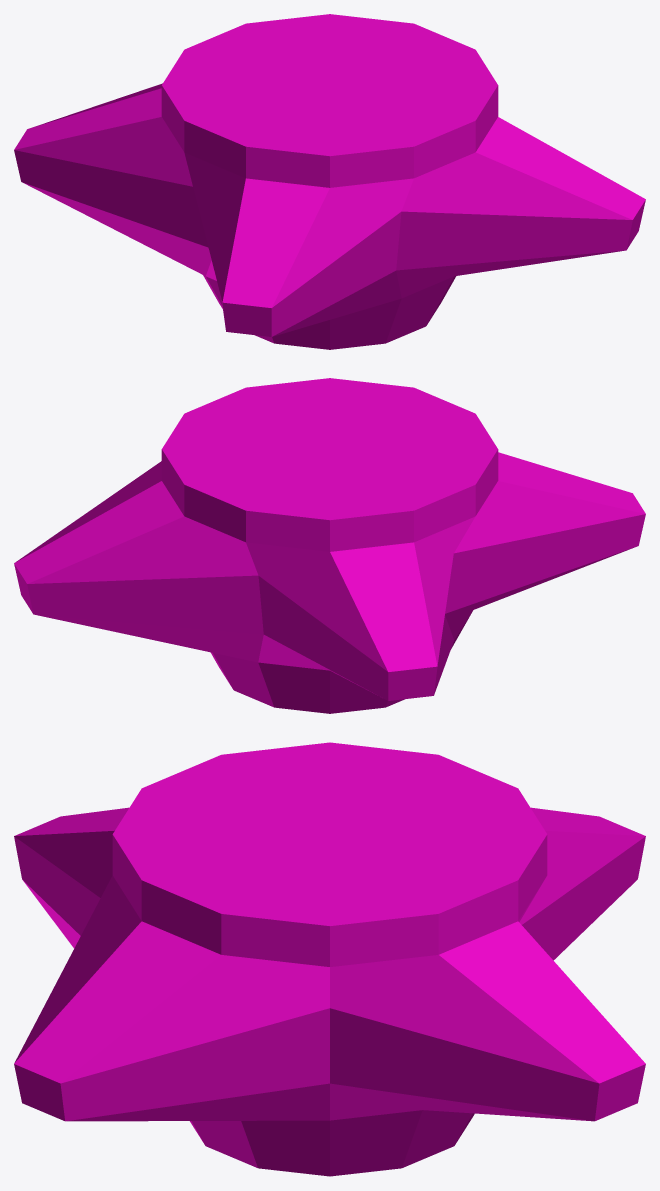
Rendered from 6Ratchet.fbx.
The picture shows the model from 3 angles, top to bottom: view 1: azimuth 30°, elevation 25°; view 2: azimuth 150°, elevation 25°; view 3: azimuth 270°, elevation 25°; orthographic projection. The views are drawn at different scales.
Visible parts, largest first — view 1: 6Ratchet; view 2: 6Ratchet; view 3: 6Ratchet.
Part boxes in pixels (box(x1,y1,x2,y2)): 6Ratchet: box(14, 14, 645, 349); 6Ratchet: box(14, 378, 645, 713); 6Ratchet: box(14, 742, 645, 1176).
Bounding box in the file's own units: 247 × 139 × 247.
